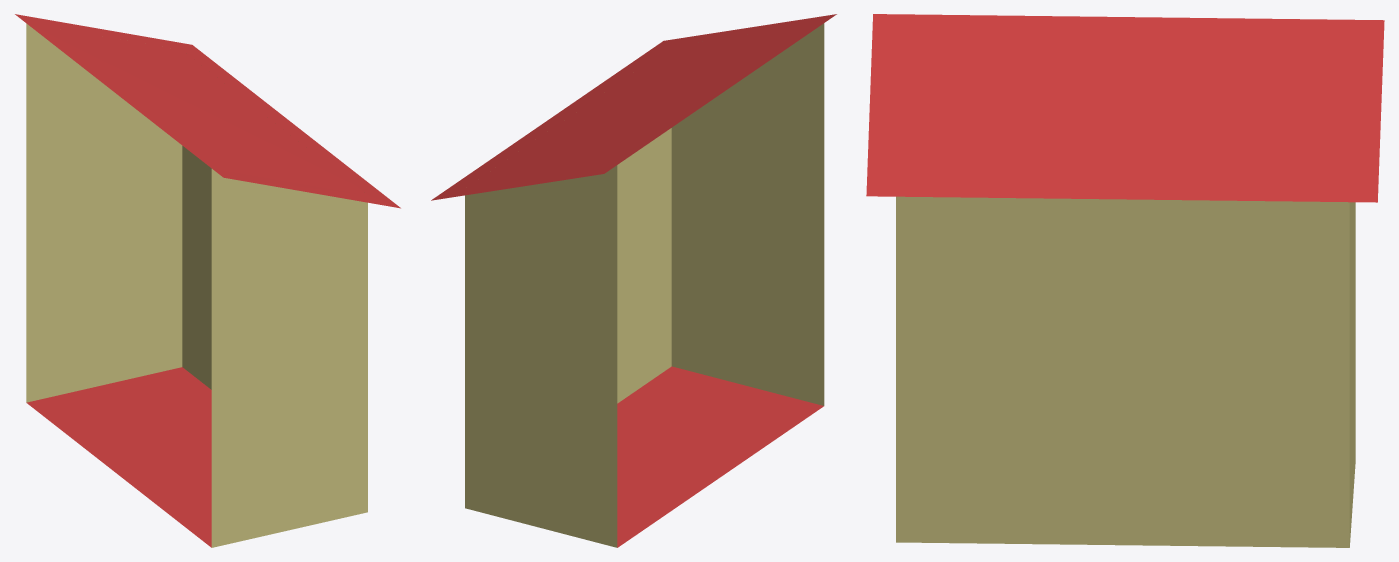
3 renders of one model, left to right at view 1: azimuth 30°, elevation 25°; view 2: azimuth 150°, elevation 25°; view 3: azimuth 270°, elevation 25°, orthographic. The views are drawn at different scales.
Bounding box in the file's own units: 4.33 × 8.98 × 8.44.
